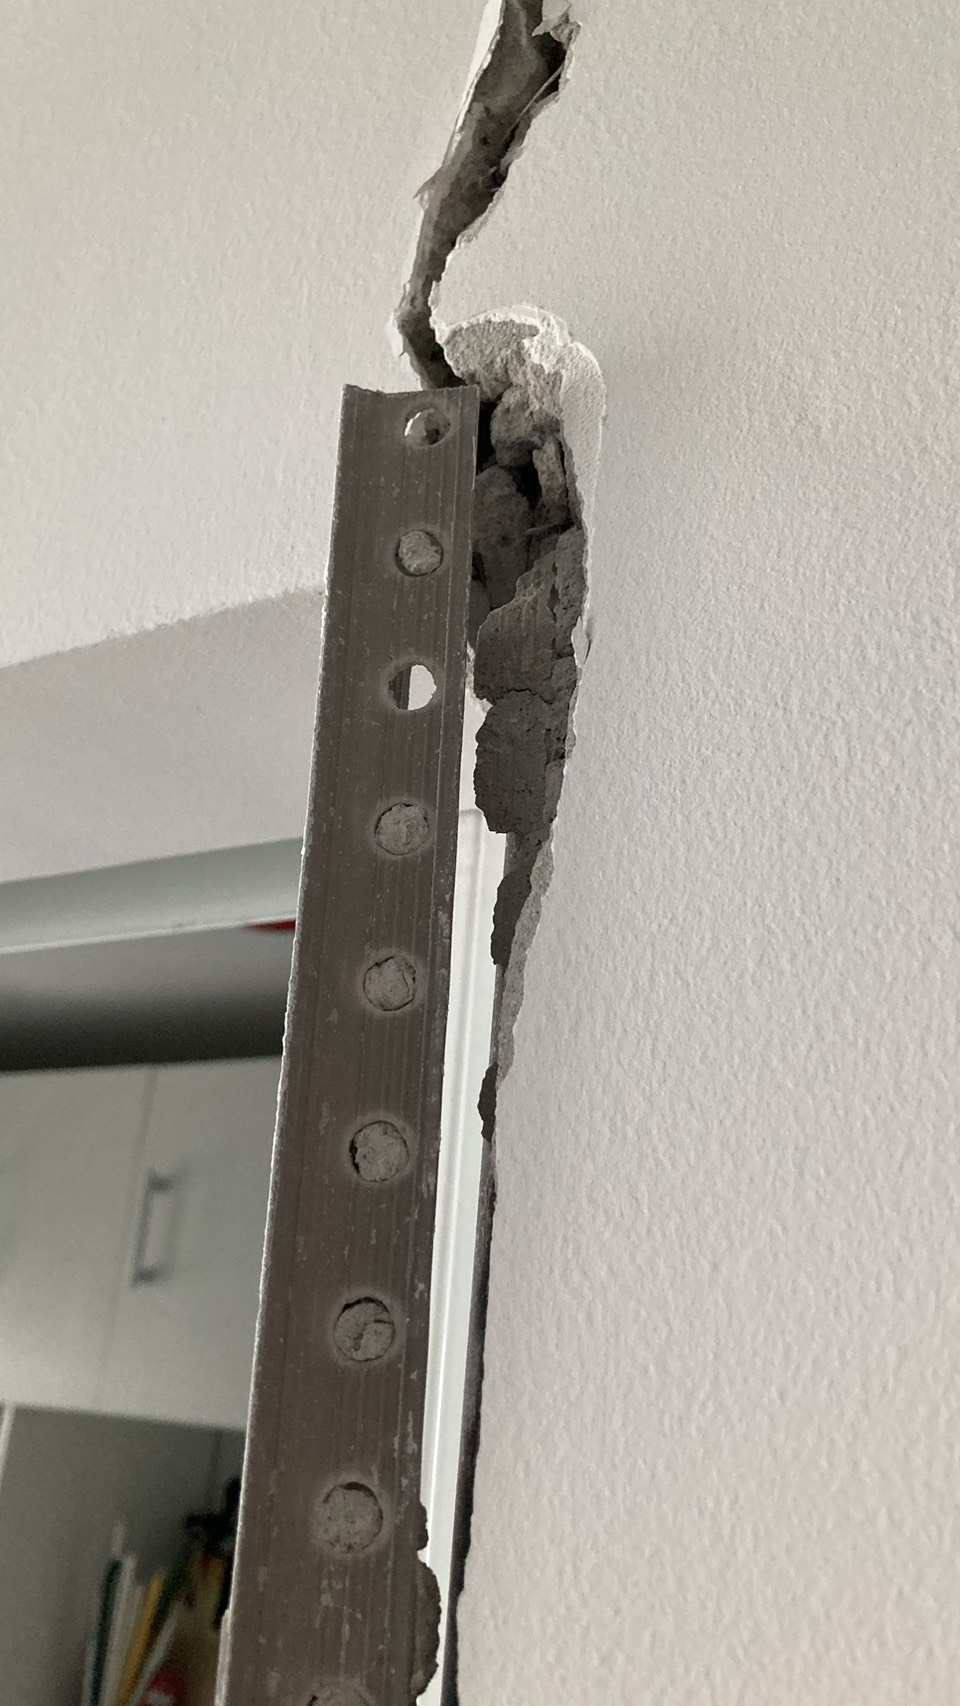Medium: (410, 1, 614, 1519)
